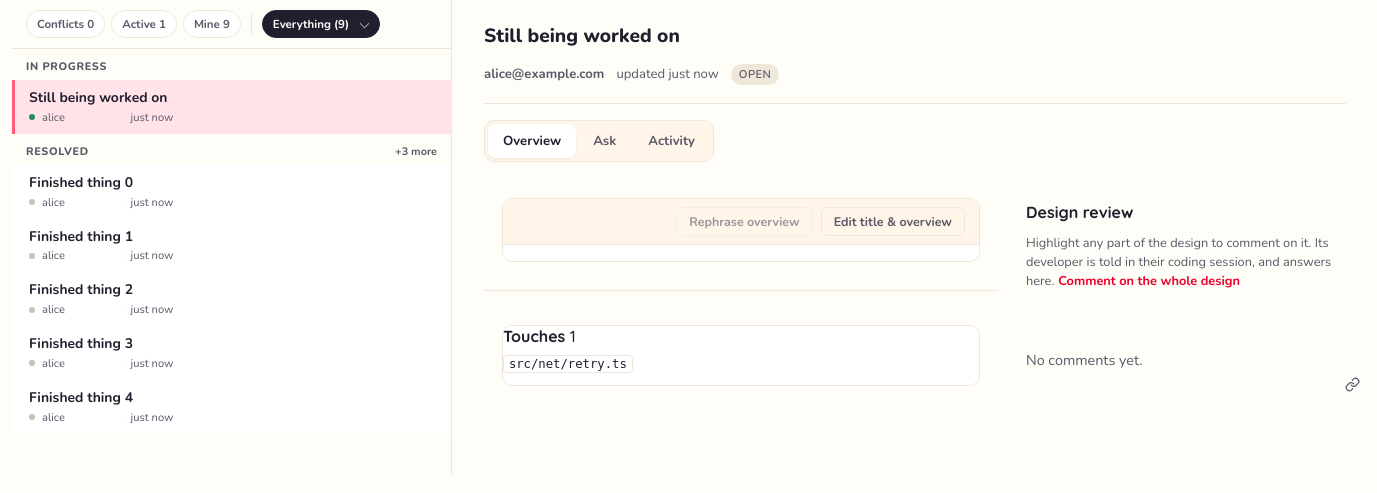
Test: WorkView (desktop baseline) › filtering finished work › shows every one of them when their own filter is selected
Expected: the element with class "work-pane-list" shows "Still being worked on", [12,80,451,134]
Select "Closed (8)" in the dropdown named "Finished work" at (321, 24), box [263,11,379,37]
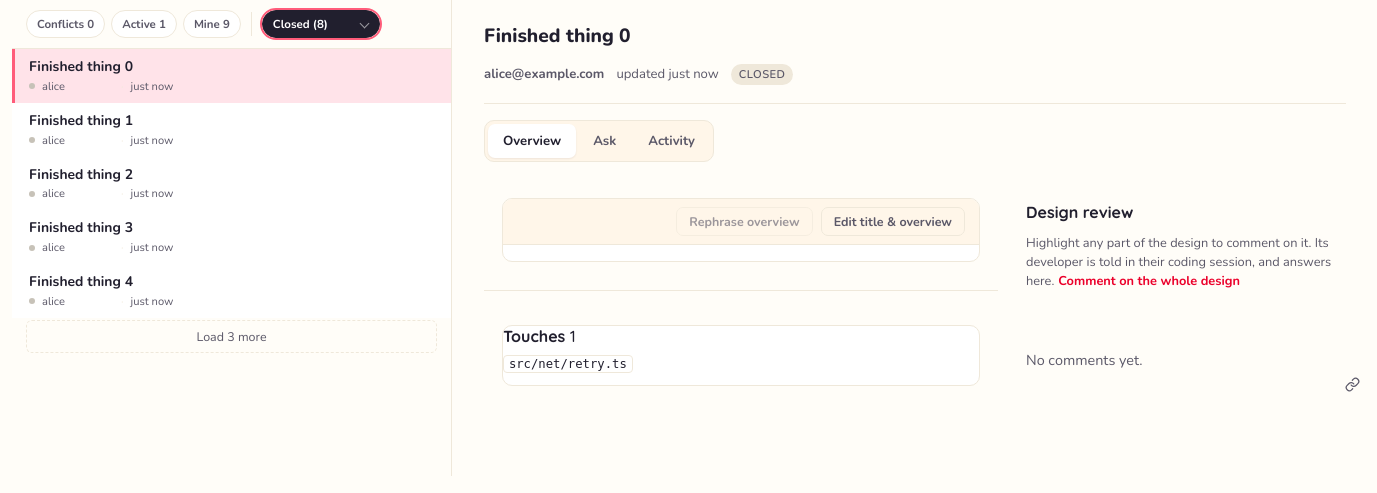
Expected: the element with class "work-pane-list" shows "Finished thing 0", [12,49,451,103]
Expected: the button "Load 3 more" is shown, [26,320,437,353]
